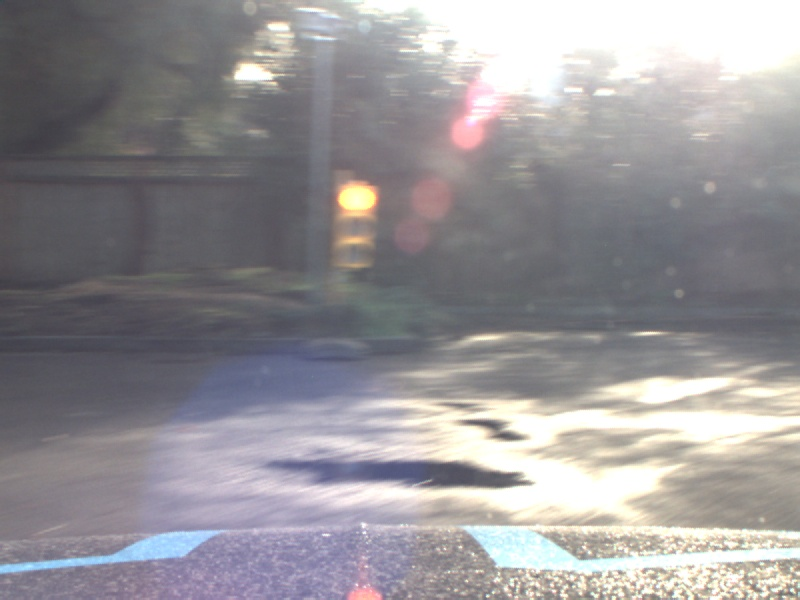Red: (333, 181, 376, 270)
